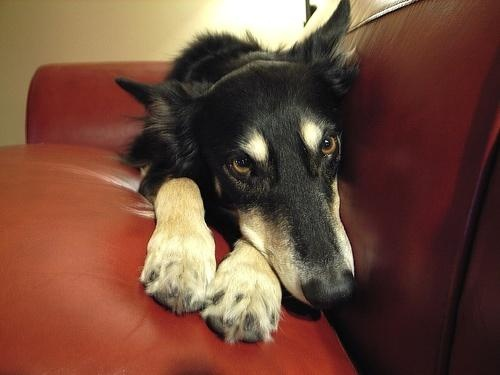dog: (111, 4, 360, 347)
